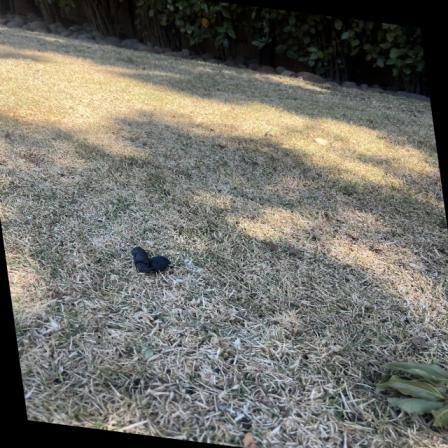dog-poop: (118, 233, 178, 283)
